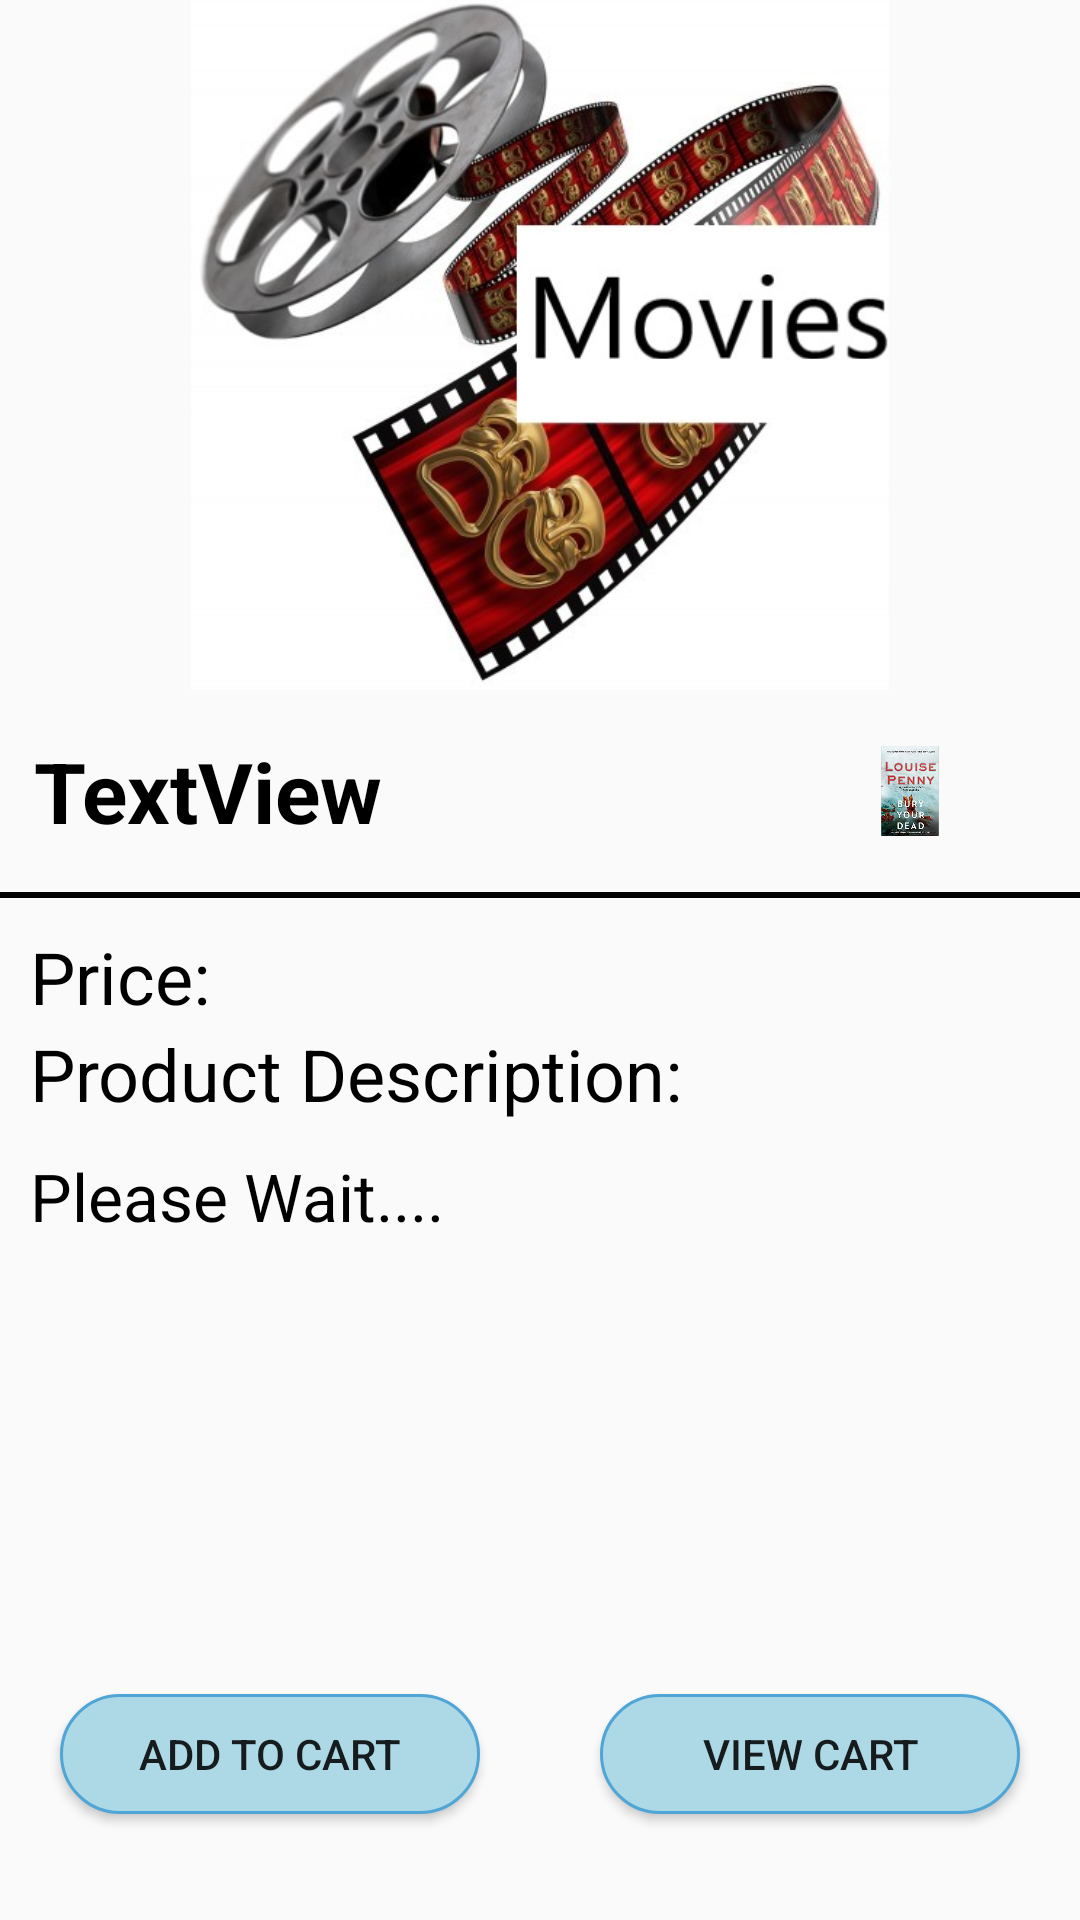

Icons on this 1080*1920 Android screen, each with the point to tap as [x,y]:
books: [910,791]
